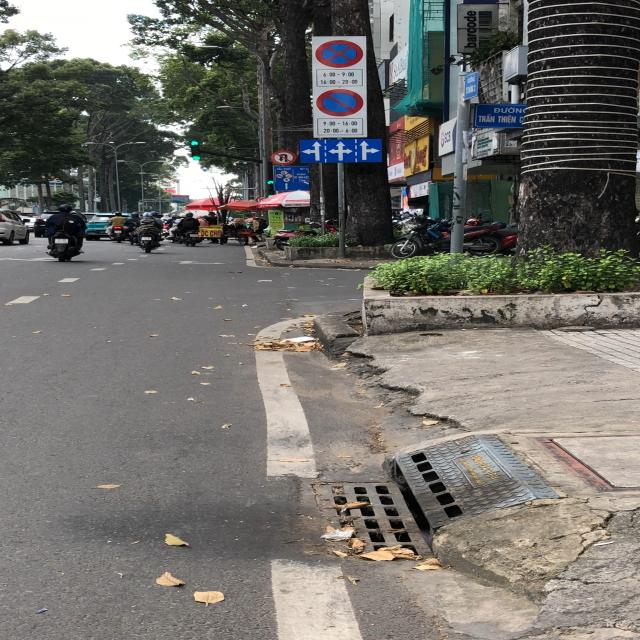Bien bao cam do xe: (312, 87, 361, 117)
Bien bao cam dung xe va do xe: (313, 38, 365, 68)
Bien bao cam quay dau xe: (269, 149, 298, 167)
